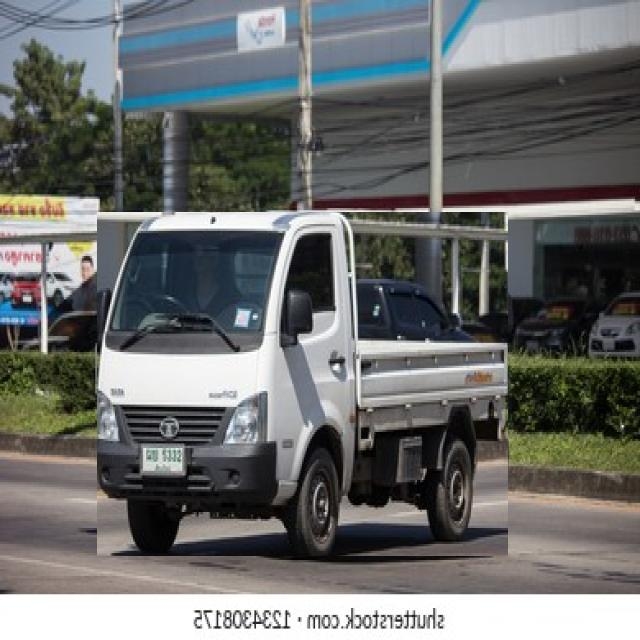truck: (97, 213, 507, 556)
